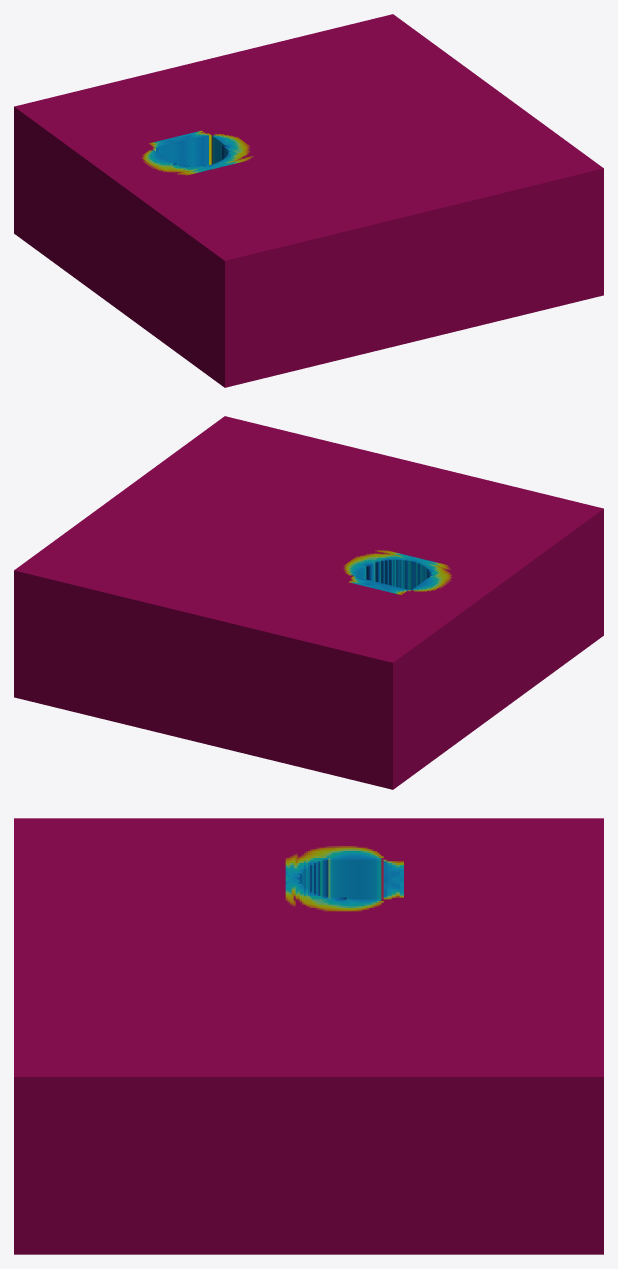
The picture shows the model from 3 angles, top to bottom: view 1: azimuth 30°, elevation 25°; view 2: azimuth 150°, elevation 25°; view 3: azimuth 270°, elevation 25°; orthographic projection. The views are drawn at different scales.
Visible parts, largest first — view 1: ModelExterior, RoadwayStressSurface; view 2: ModelExterior, RoadwayStressSurface; view 3: ModelExterior, RoadwayStressSurface.
Part boxes in pixels (x1,y1,x2,y2): ModelExterior: [14, 14, 603, 387]; RoadwayStressSurface: [153, 135, 228, 166]; ModelExterior: [14, 416, 603, 789]; RoadwayStressSurface: [353, 559, 430, 590]; ModelExterior: [14, 818, 603, 1254]; RoadwayStressSurface: [299, 859, 383, 899].
Size of the model in its own units: 30 by 9.6 by 28.9.
